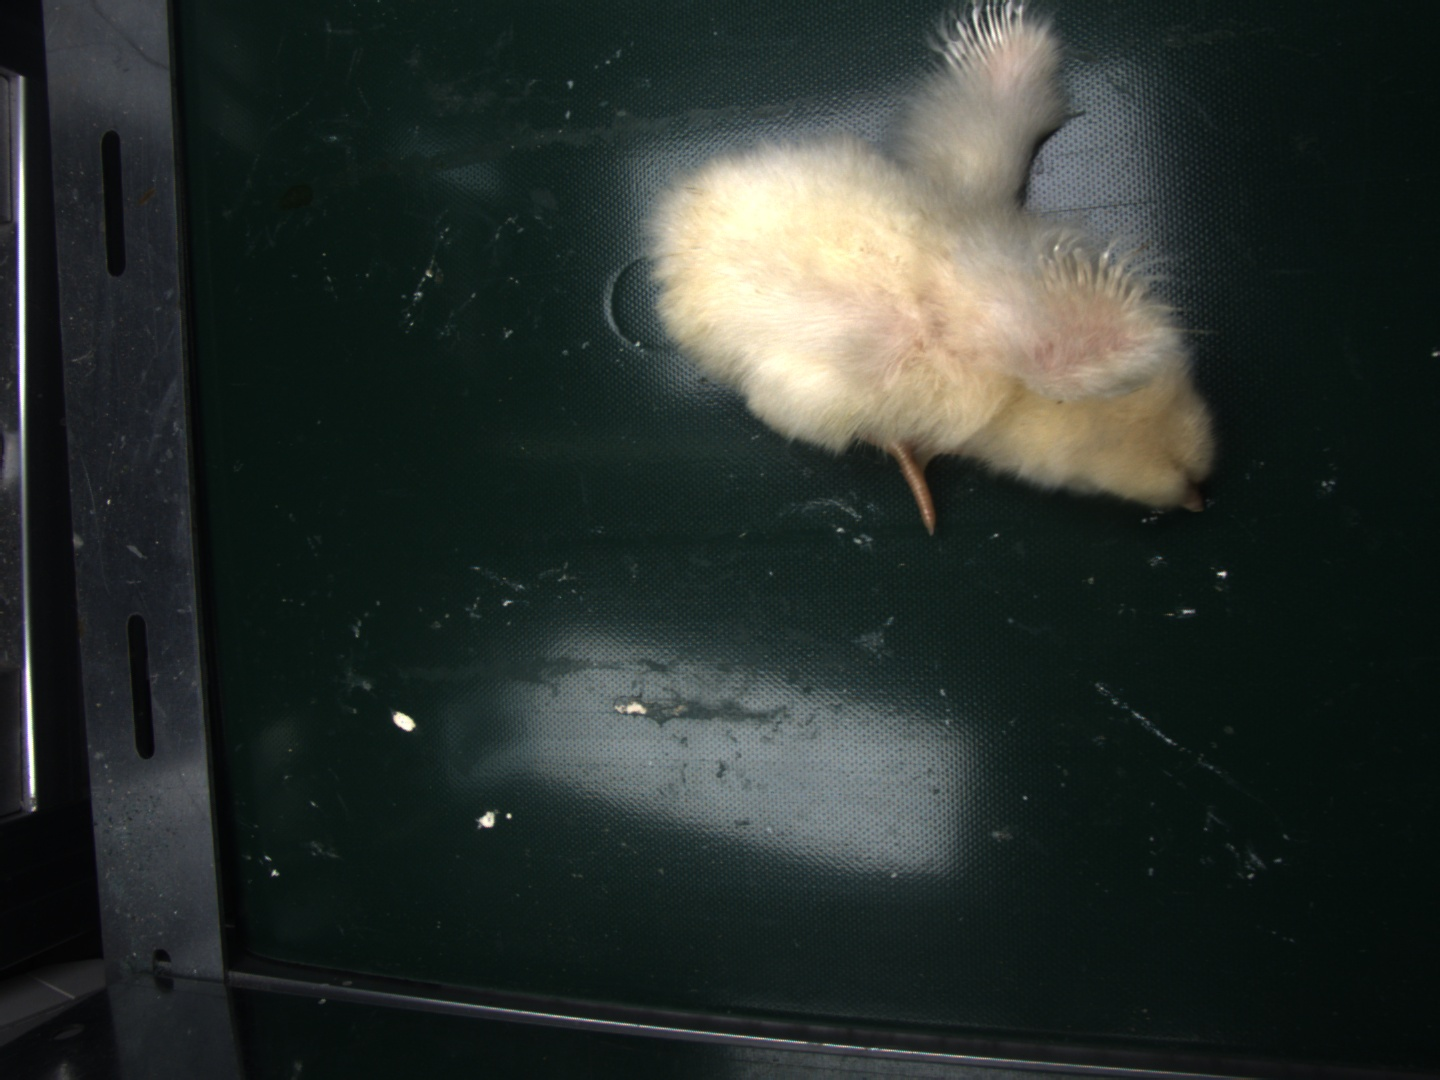male: (950, 1, 1025, 73)
